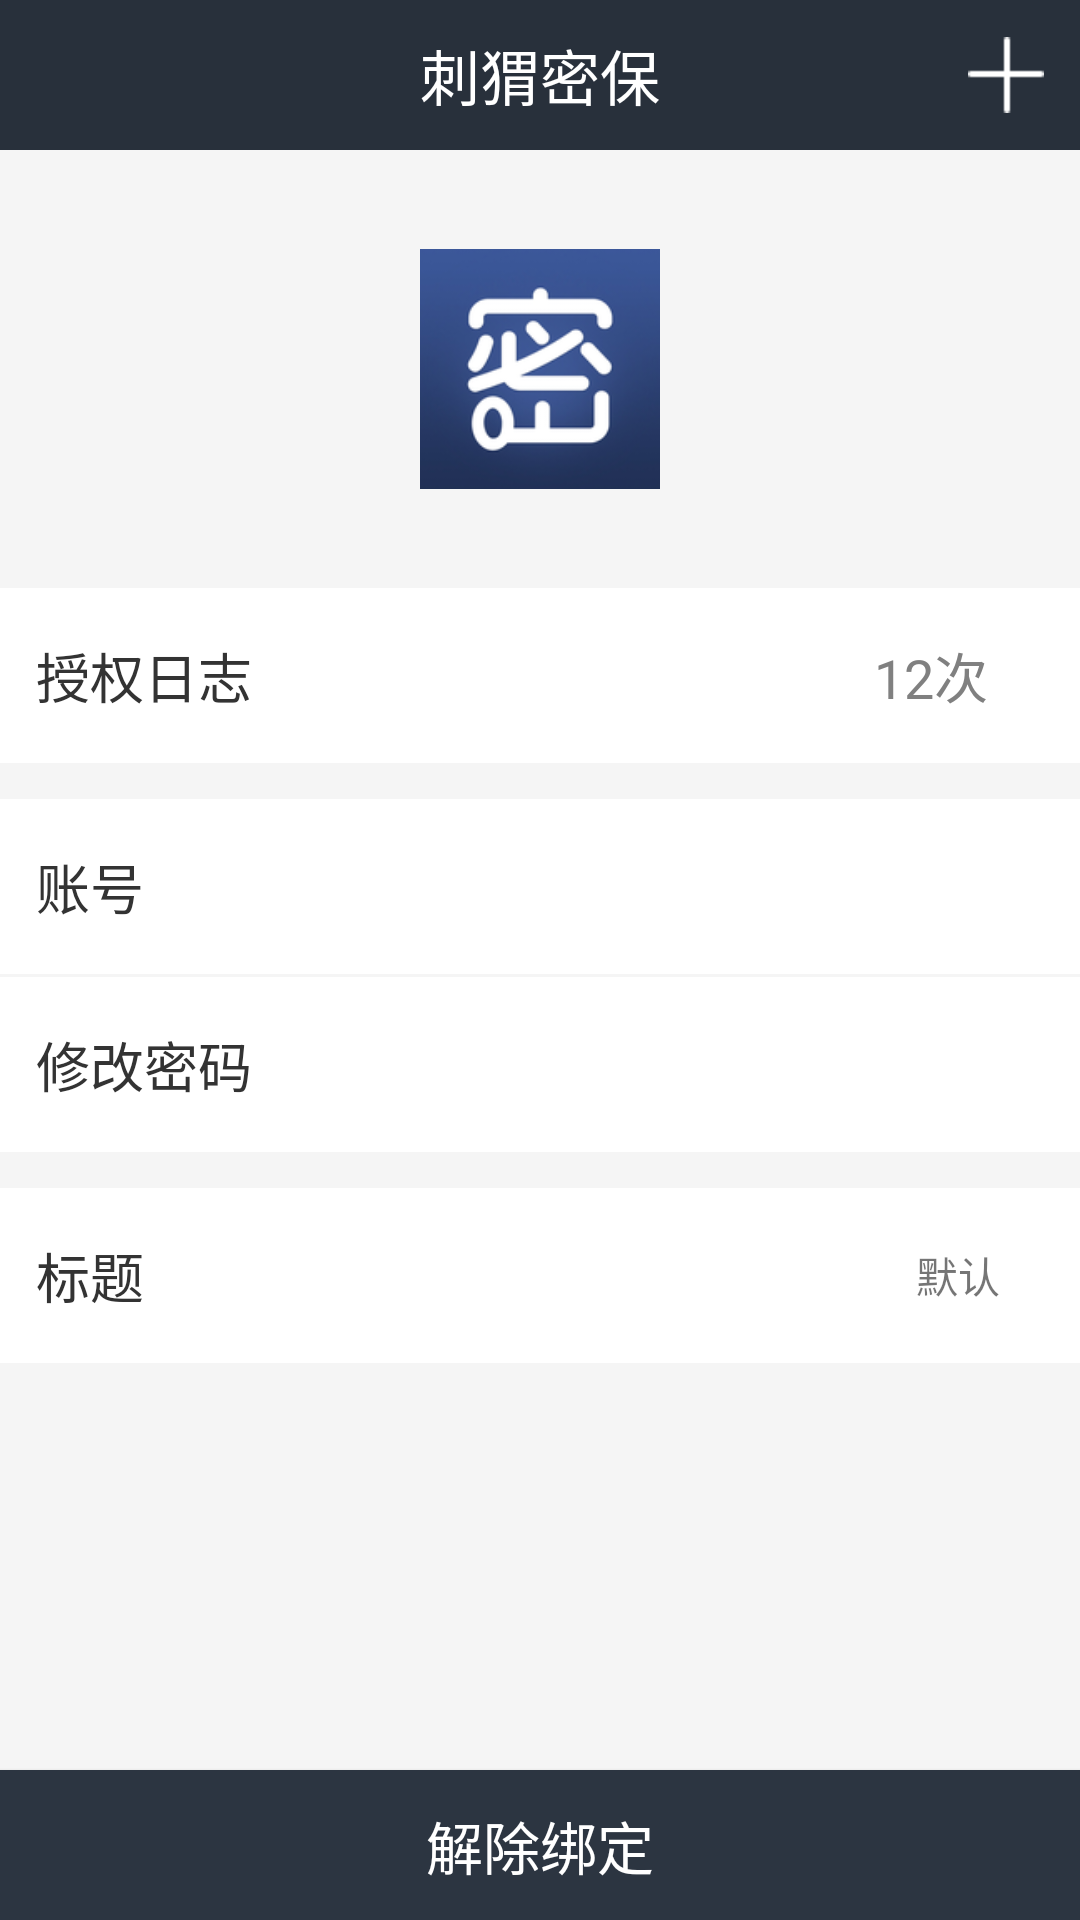

Point at icon controls on the screen. Image size 1080px×1920px, points as (x,y).
home add: (1006,75)
